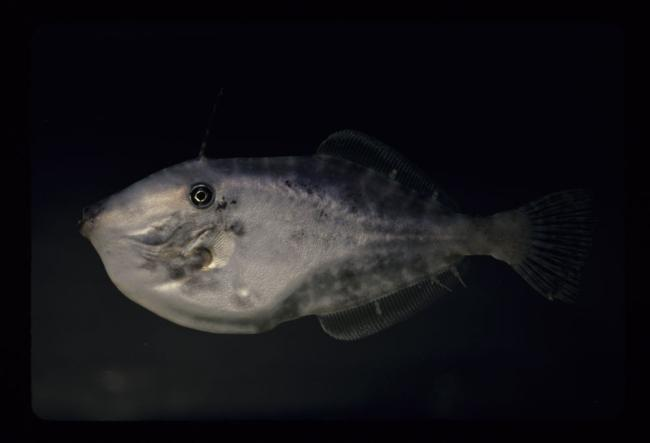fish: (82, 153, 566, 339)
